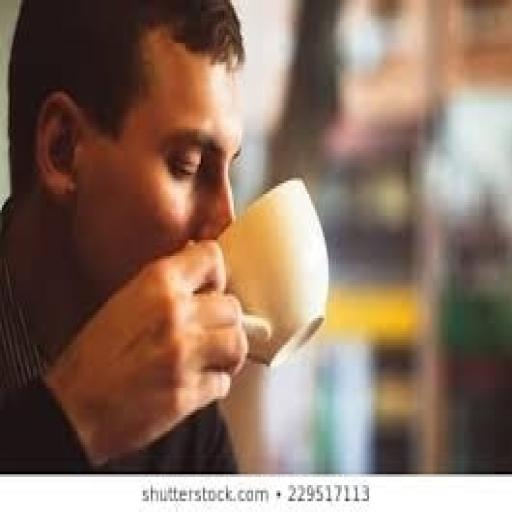drinking: (214, 175, 328, 367)
